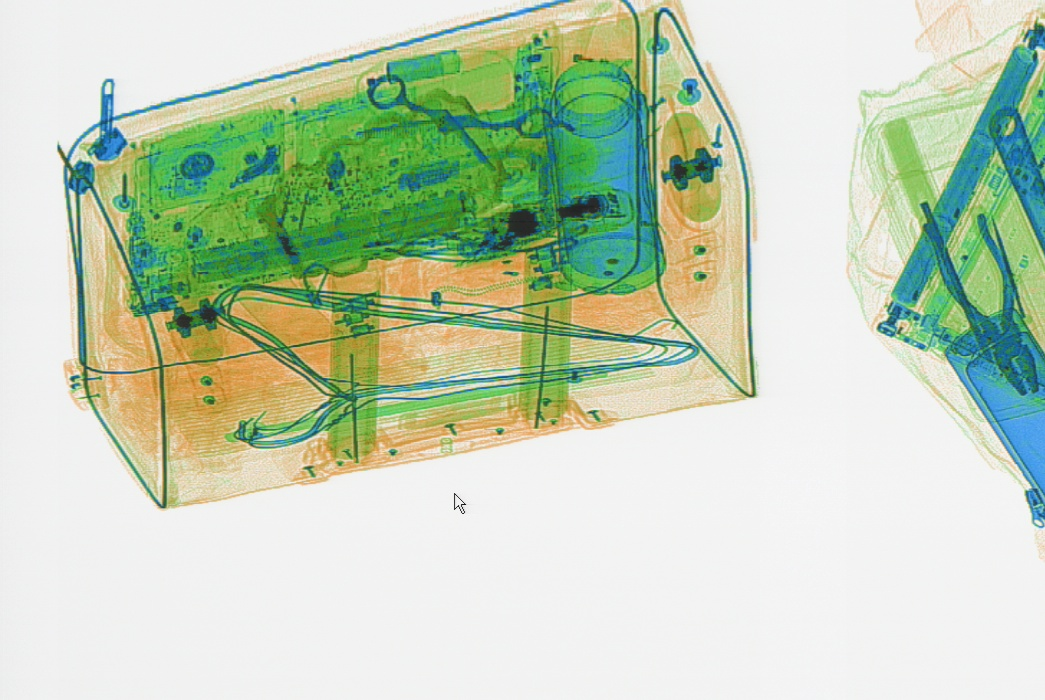pressure: (219, 245, 344, 365)
scissors: (352, 72, 574, 171)
